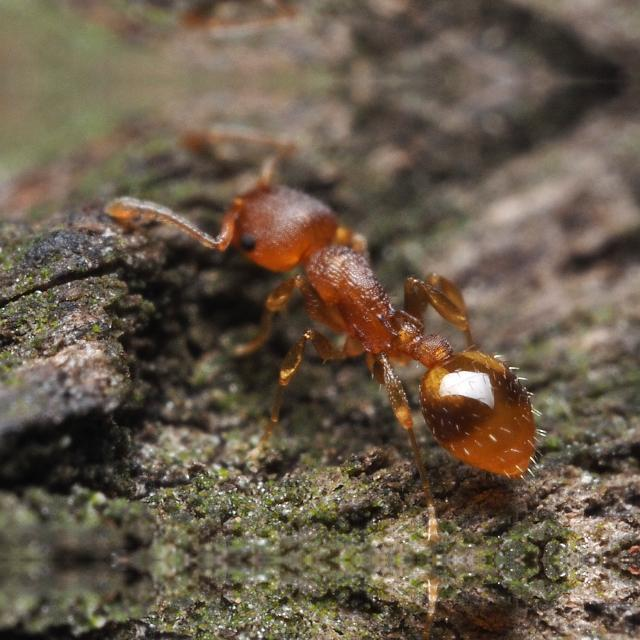Temnothorax: (157, 124, 613, 502)
